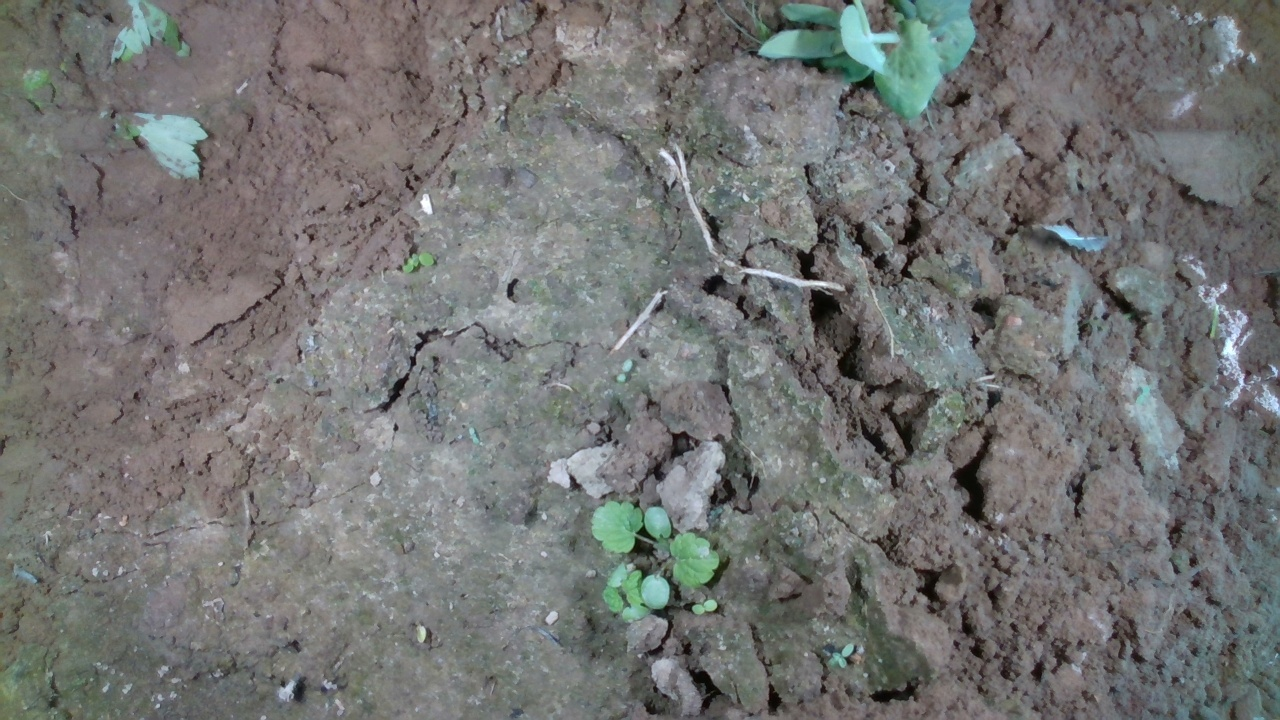weed: (400, 246, 439, 269), (616, 354, 648, 380)
